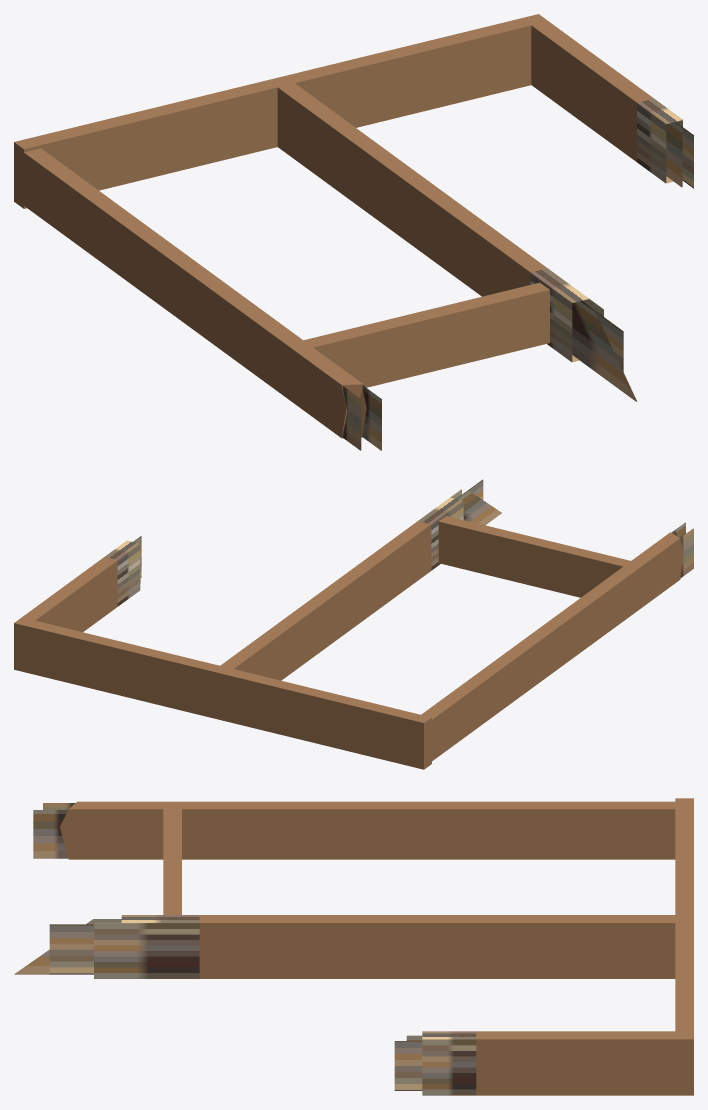
Rendered from DBK_WoodFrame_Floor_End_A.fbx.
3 views of the same model, one above another, from view 1: azimuth 30°, elevation 25°; view 2: azimuth 150°, elevation 25°; view 3: azimuth 270°, elevation 25° (orthographic). The views are drawn at different scales.
Parts seen in each view (by area): view 1: DBK_WoodFrame_Floor_End_A; view 2: DBK_WoodFrame_Floor_End_A; view 3: DBK_WoodFrame_Floor_End_A.
Boxes of the visible parts, x1,y1,x2,y2 form: DBK_WoodFrame_Floor_End_A: (14,14,693,450); DBK_WoodFrame_Floor_End_A: (14,479,693,769); DBK_WoodFrame_Floor_End_A: (14,798,693,1095).
Bounding box in the file's own units: 153 × 16.58 × 182.
